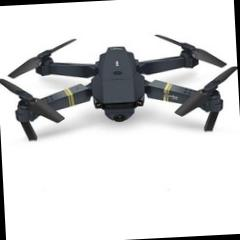drone: (0, 27, 238, 147)
